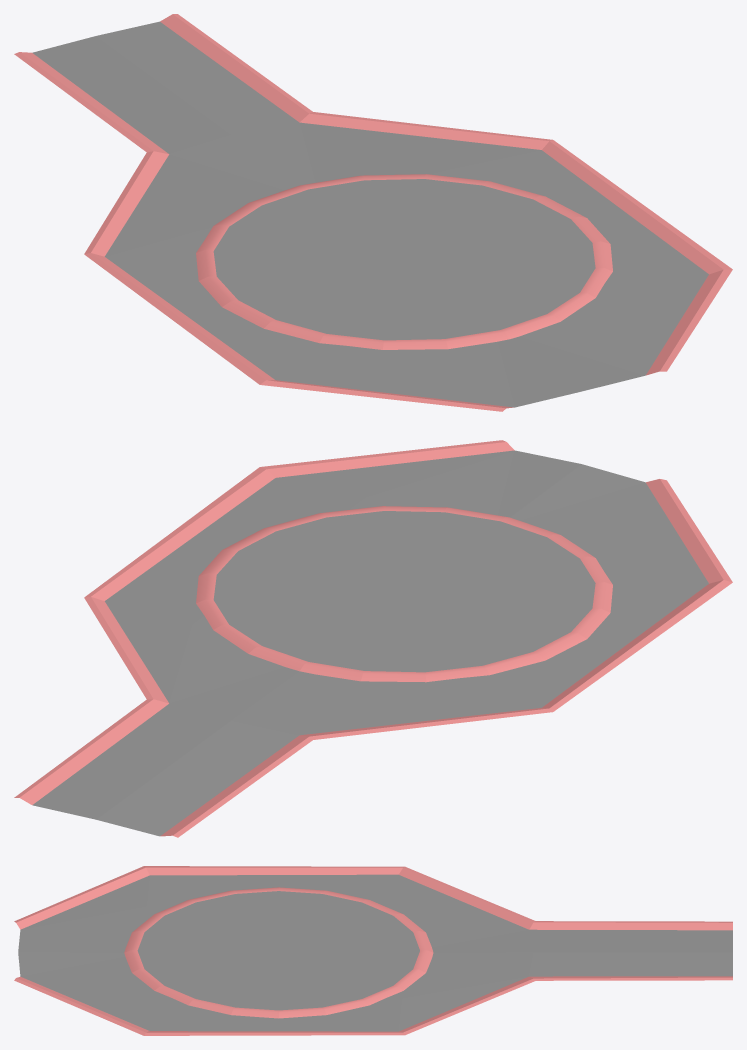
The model's file is SM_ENV_LKNVLD_Event_HL_Road_A_COL.gltf.
3 views of the same model, one above another, from view 1: azimuth 30°, elevation 25°; view 2: azimuth 150°, elevation 25°; view 3: azimuth 270°, elevation 25° (orthographic). The views are drawn at different scales.
Visible parts, largest first — view 1: SM_ENV_LKNVLD_Event_HL_Road_A_COL; view 2: SM_ENV_LKNVLD_Event_HL_Road_A_COL; view 3: SM_ENV_LKNVLD_Event_HL_Road_A_COL.
Boxes of the visible parts, x1=… form: SM_ENV_LKNVLD_Event_HL_Road_A_COL: x1=14, y1=14, x2=732, y2=411; SM_ENV_LKNVLD_Event_HL_Road_A_COL: x1=14, y1=440, x2=732, y2=837; SM_ENV_LKNVLD_Event_HL_Road_A_COL: x1=14, y1=866, x2=732, y2=1035.
Bounding box in the file's own units: 27.29 × 0.6907 × 48.8.
